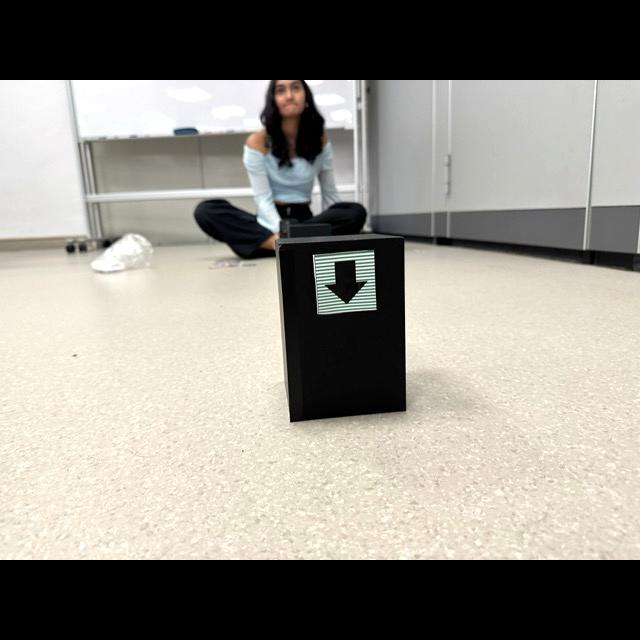DOWN: (325, 260, 367, 304)
